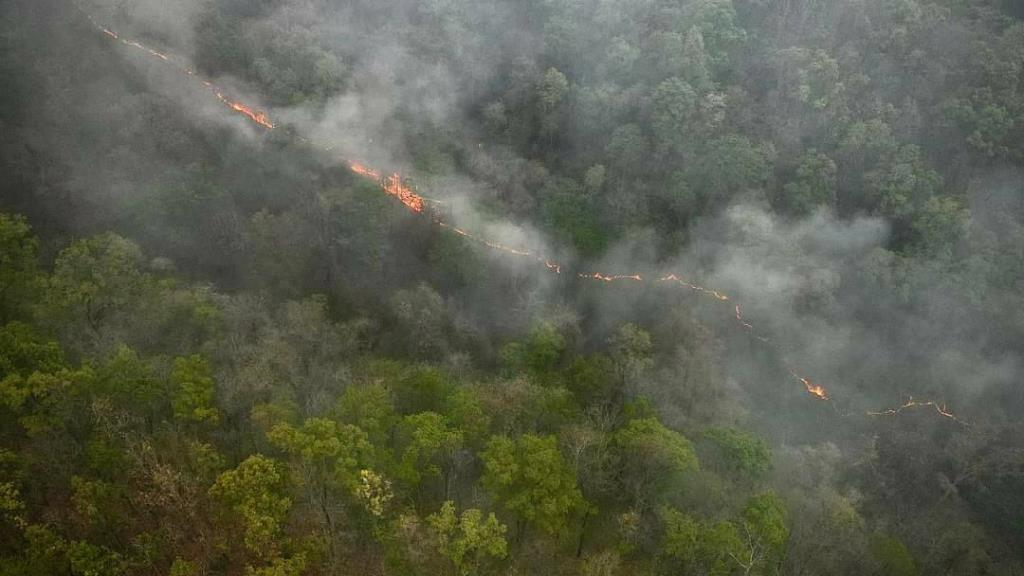fire: (180, 60, 474, 234), (764, 342, 974, 442)
